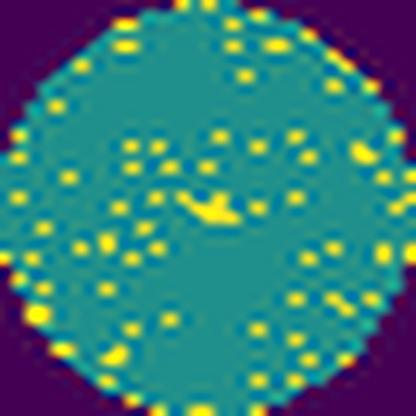Center: (169, 181, 247, 231)
